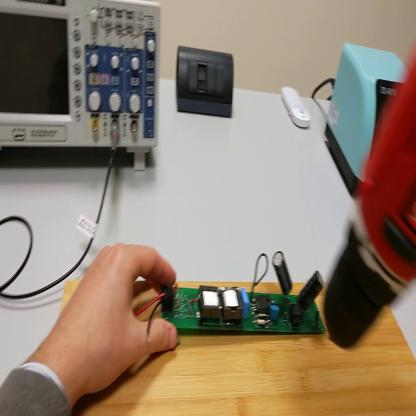electric screwdriver: (326, 44, 416, 362)
hand: (59, 241, 178, 394)
high voltage board: (141, 250, 334, 342)
oscilloscope: (2, 2, 163, 177)
welder station: (327, 47, 408, 202)
working area: (59, 278, 416, 416)
